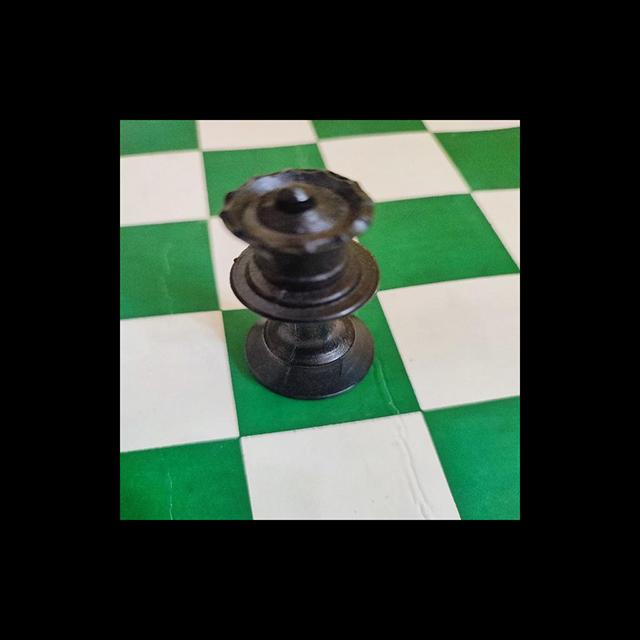black-queen: (218, 167, 381, 402)
